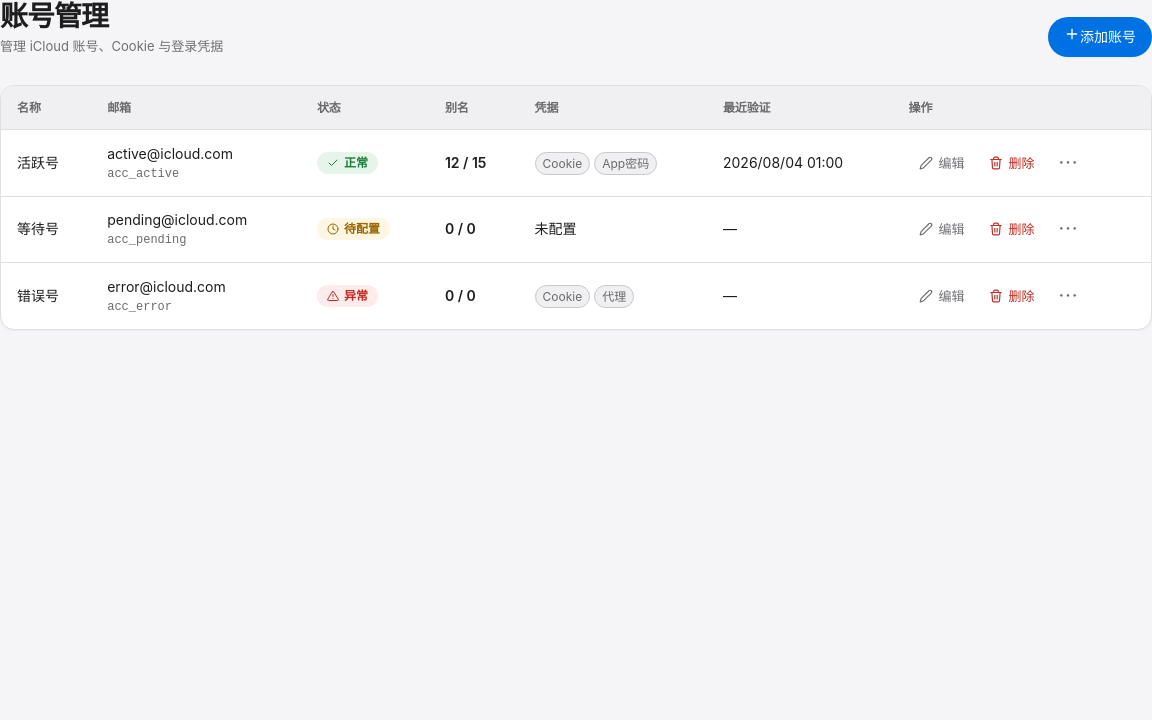
Scenario: AccountsPage › App Password 提交后清空
Check: the text "活跃号" is shown, box x1=17 y1=154 x2=59 y2=171
Click the button named "更多操作". click: (1068, 163)
box: x1=1048 y1=143 x2=1088 y2=183
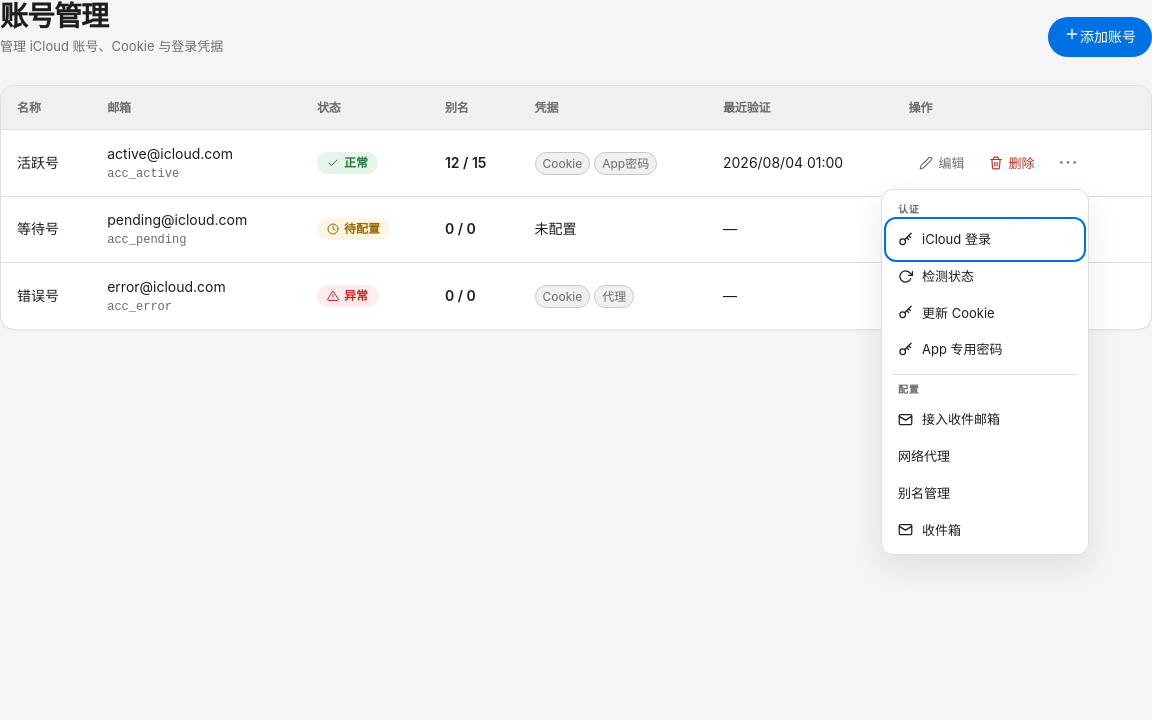
Click the menu item "App 专用密码". click: (984, 350)
box: x1=888 y1=331 x2=1082 y2=368
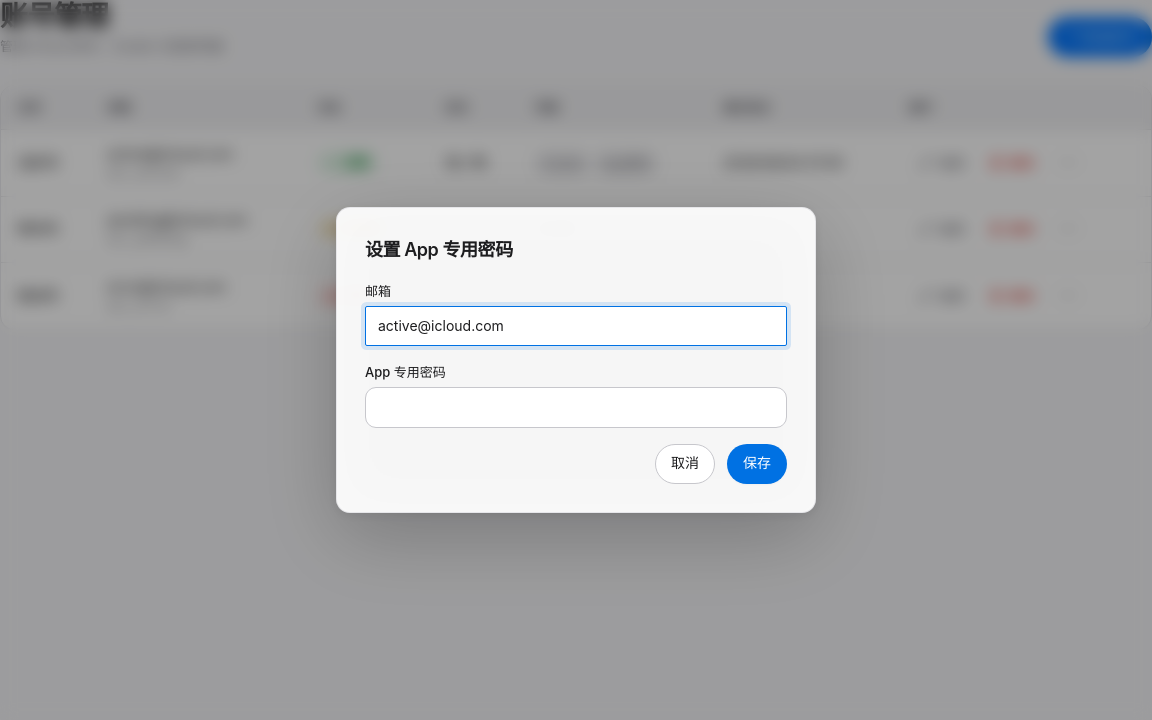
Check: the field labelled "邮箱" holds "active@icloud.com", box x1=365 y1=306 x2=787 y2=346
Type "xxxx-xxxx-xxxx-xxxx" into the password field labelled "App 专用密码". click: (576, 407)
box: x1=365 y1=387 x2=787 y2=428
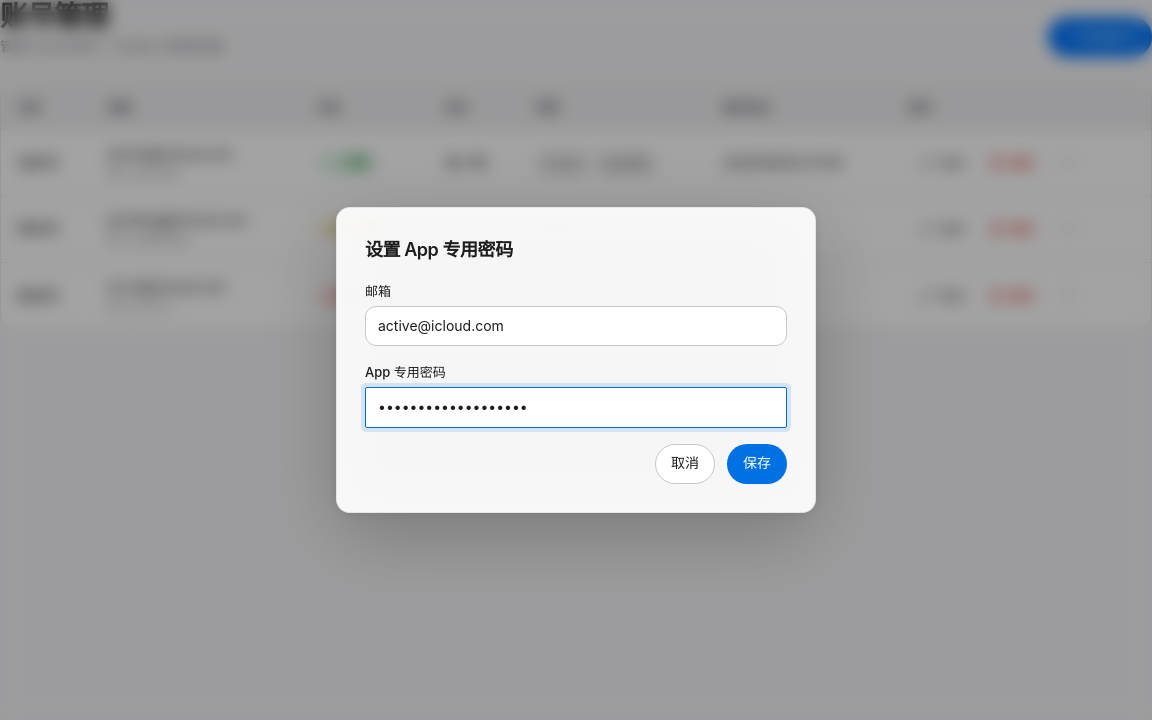
Click the button "保存". click: (757, 464)
box: x1=727 y1=444 x2=787 y2=484
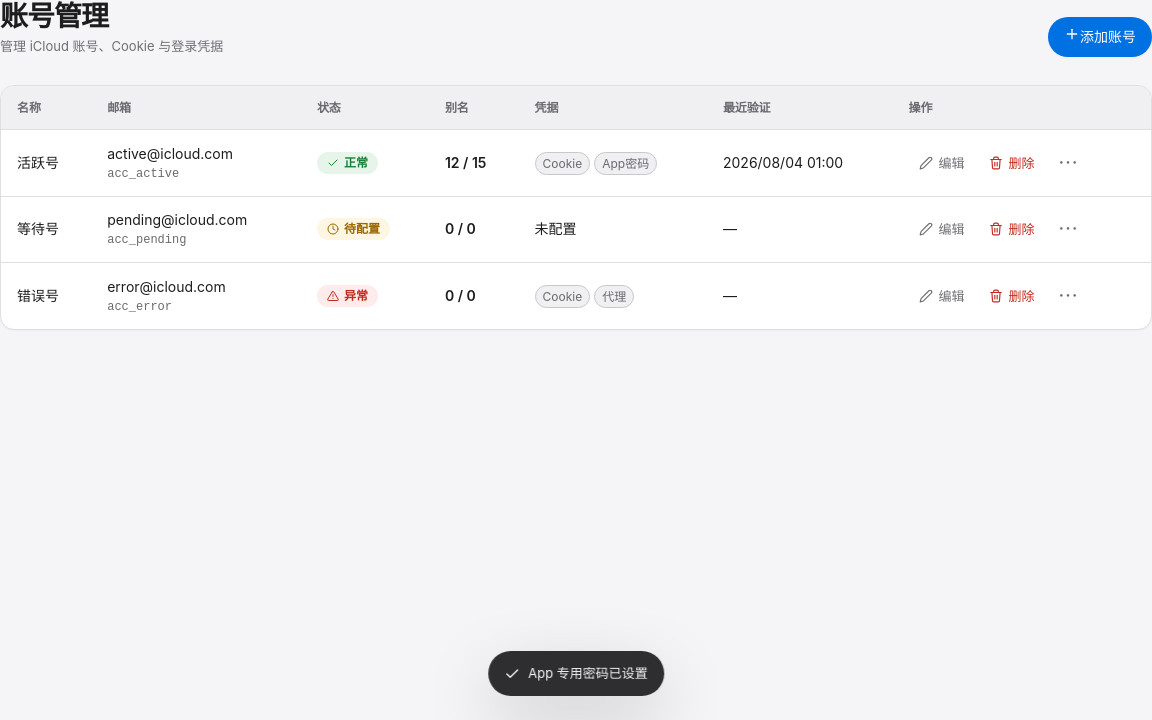
Check: the dialog is gone
